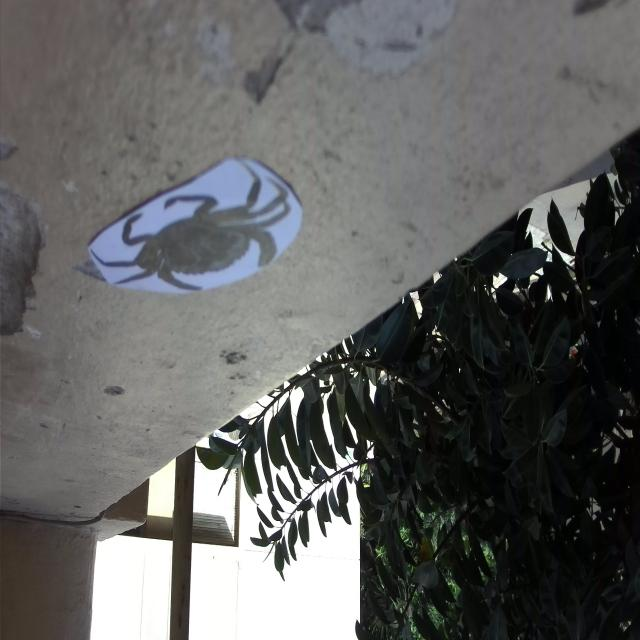European_Green_Crab: (86, 141, 297, 331)
